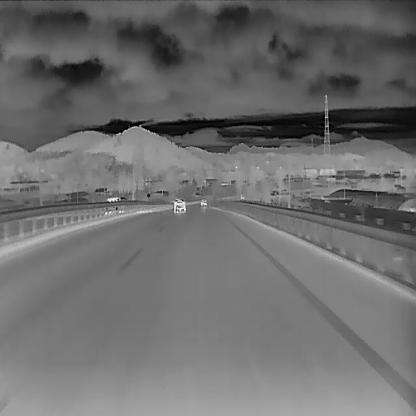car: (105, 196, 123, 214), (172, 198, 187, 212), (200, 198, 207, 206)
